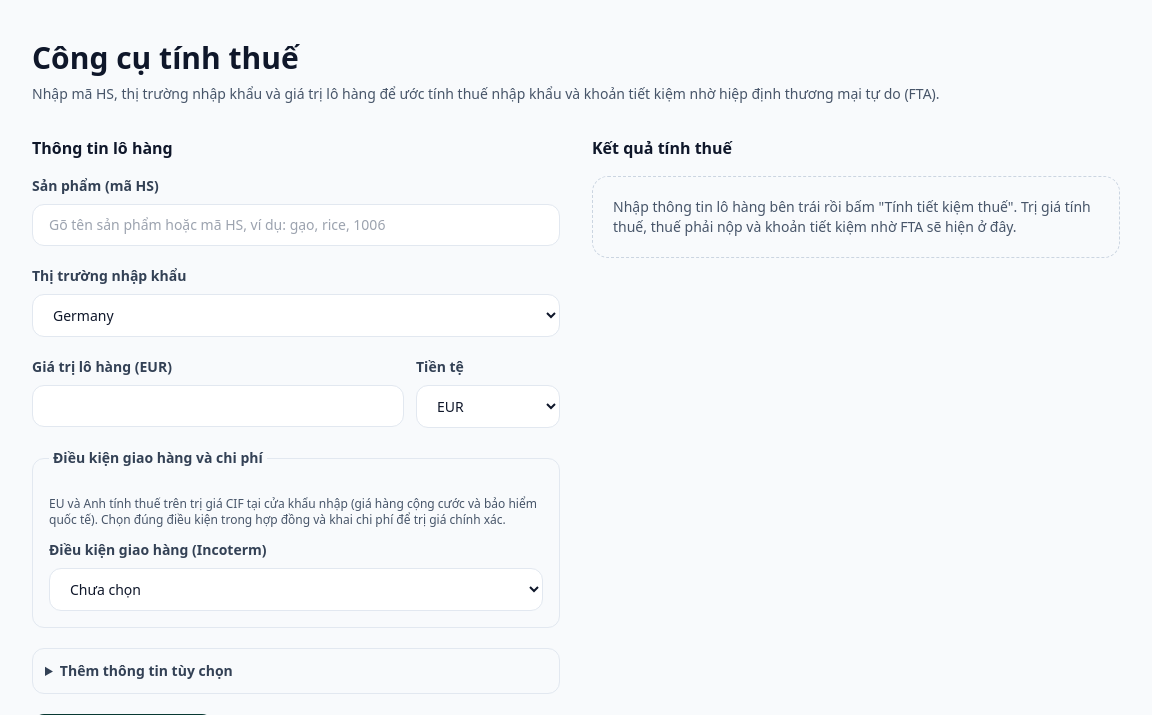
Test: Máy tính thuế: trị giá tính thuế (C2-A) › mặc định không gửi trường mới; tiền tệ EUR không gửi
The width and height of the screenshot is (1152, 715).
Type "ca tra" into the dropdown labelled "Sản phẩm (mã HS)" at [296, 225], box top-left (32, 204), bottom-right (560, 246)
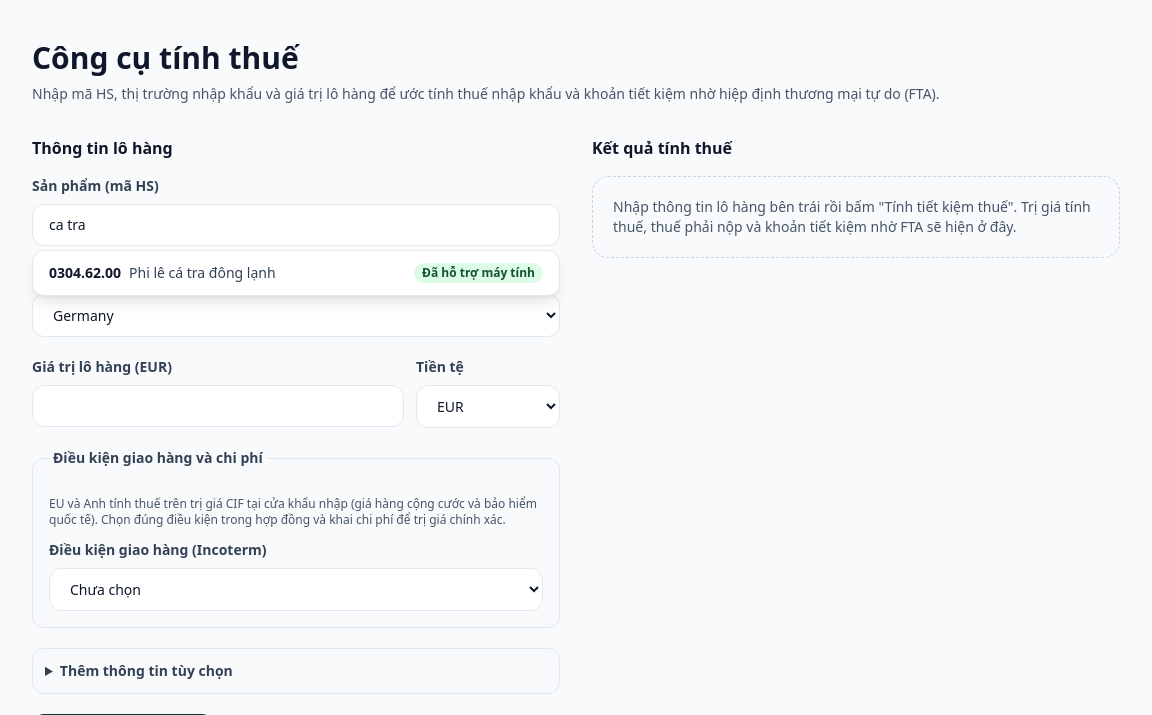
Click the option "0304.62.00Phi lê cá tra đông lạnh Đã hỗ trợ máy tính" at [85, 272], box top-left (49, 263), bottom-right (543, 283)
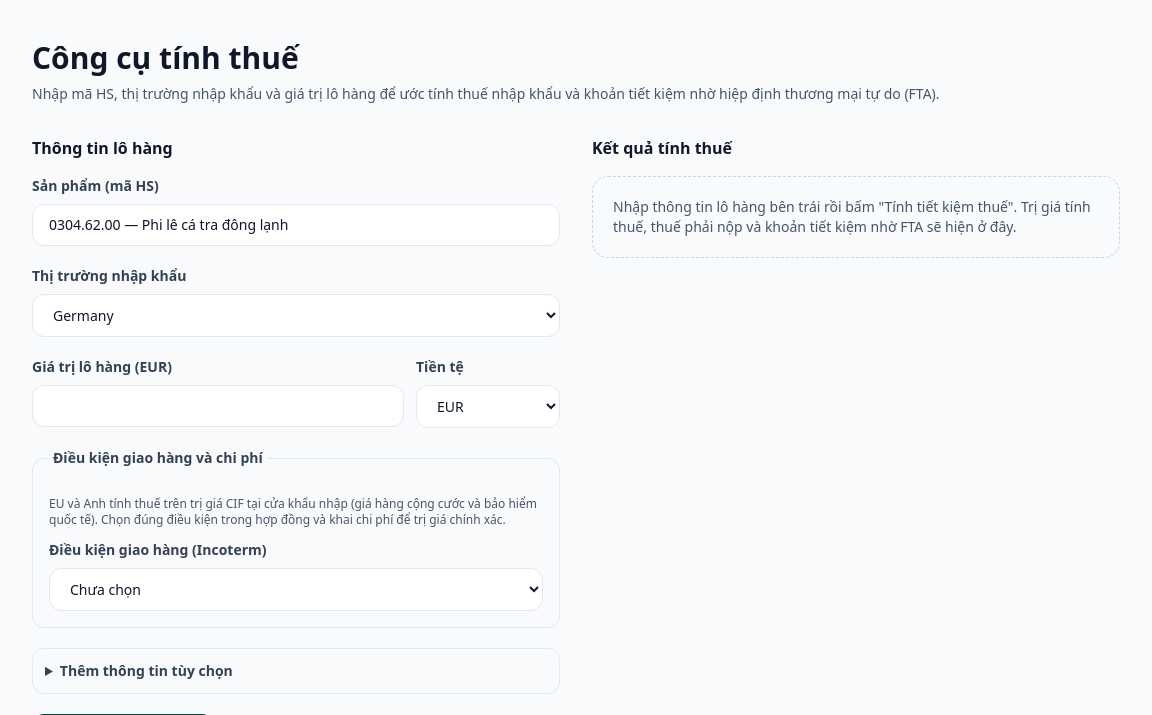
Type "100000" into the field labelled "Giá trị lô hàng (EUR)" at [218, 406], box top-left (32, 385), bottom-right (404, 427)
(page scrolled)
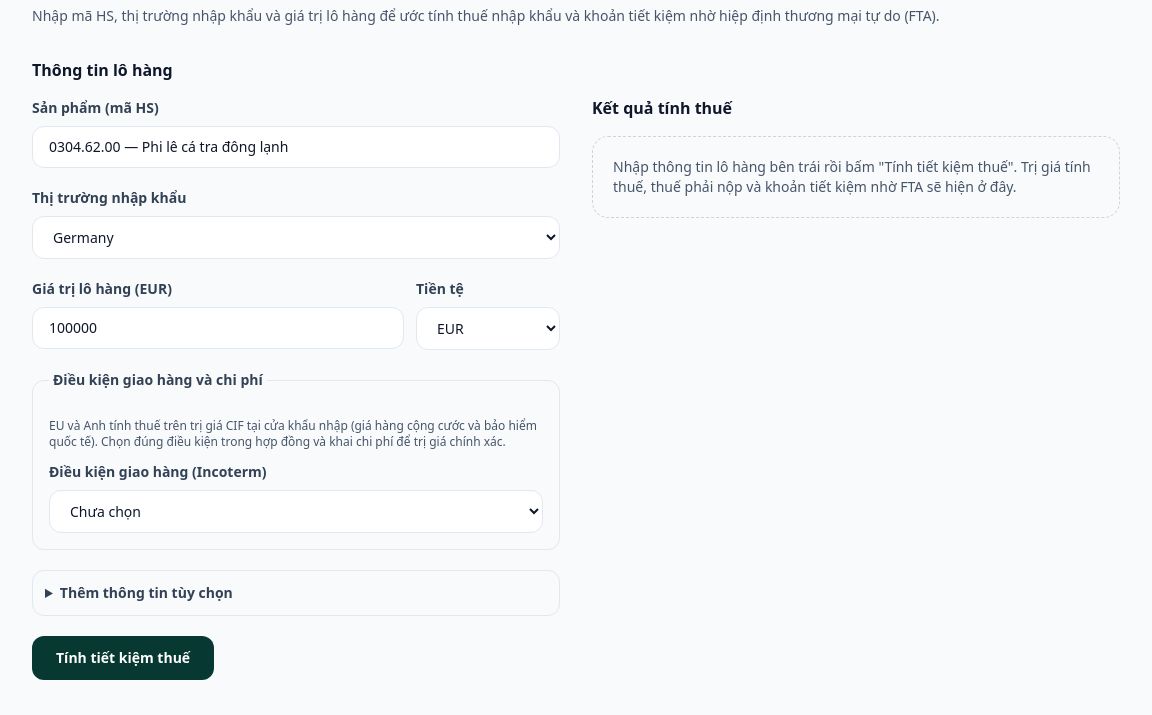
Click the button "Tính tiết kiệm thuế" at [123, 658], box top-left (32, 636), bottom-right (214, 680)
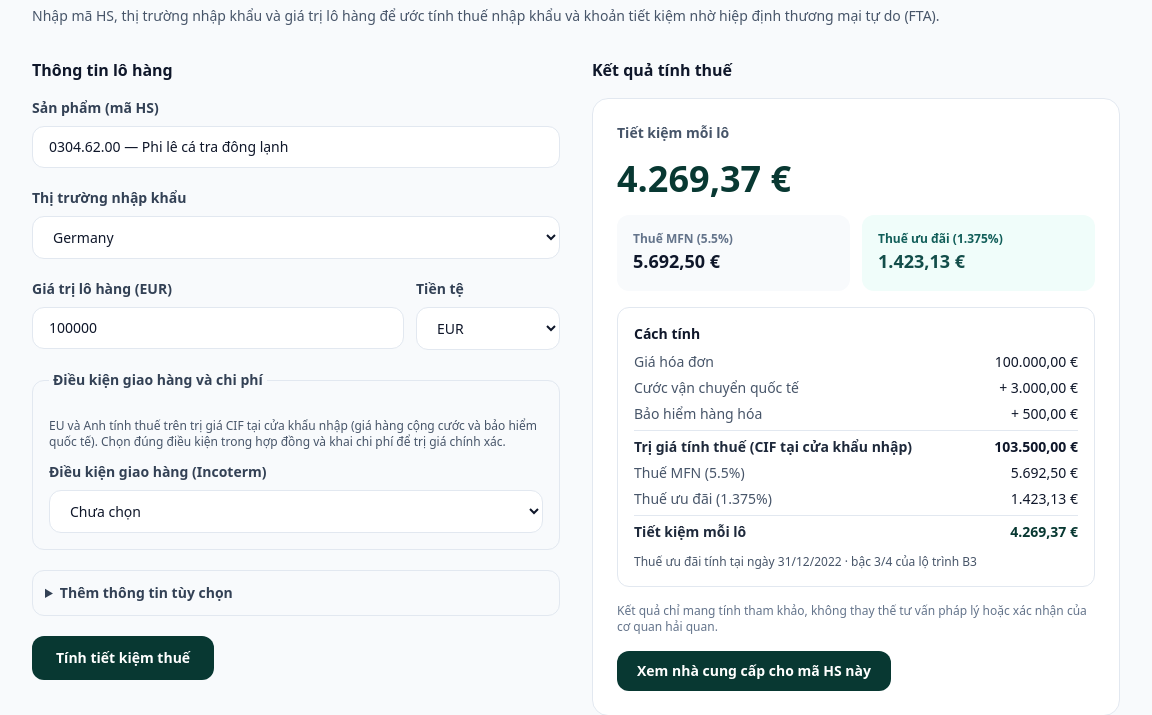
expect the element with test id "valuation-breakdown" is shown: met, box top-left (617, 307), bottom-right (1095, 587)
